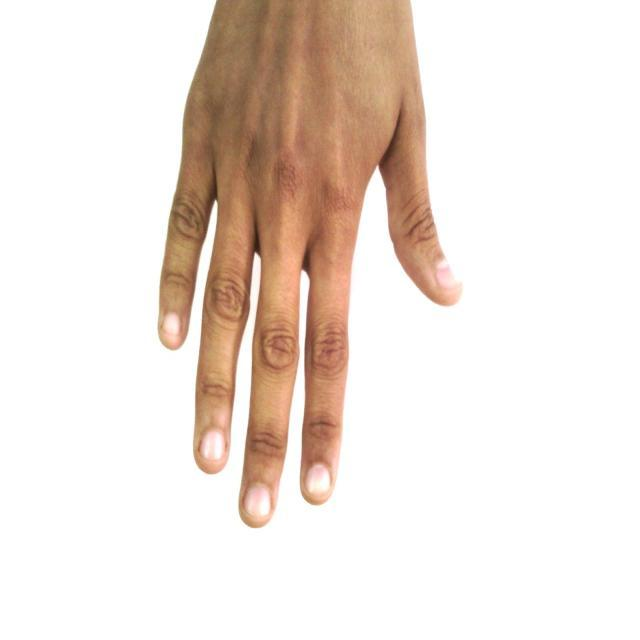Fingernail: (246, 484, 271, 519), (308, 465, 330, 496), (202, 430, 224, 460), (437, 260, 457, 289), (162, 314, 181, 338)
